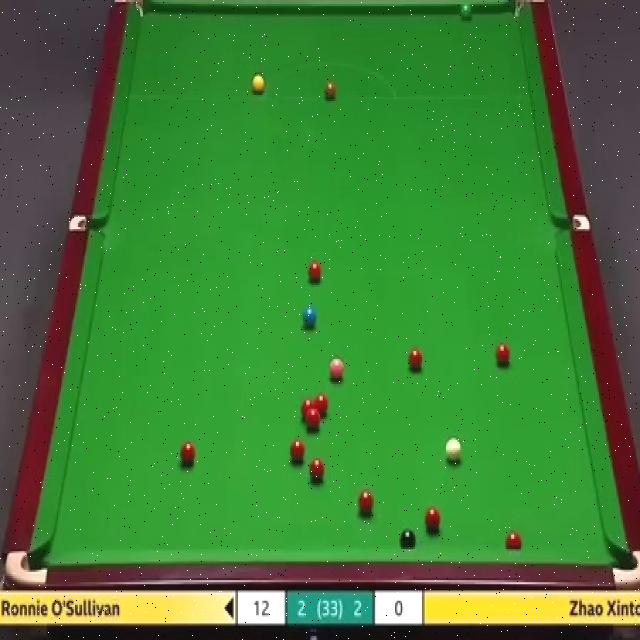black-ball: (400, 527, 416, 550)
blue-ball: (301, 306, 319, 328)
brown-ball: (324, 78, 336, 99)
green-ball: (459, 0, 473, 19)
pink-ball: (328, 353, 347, 386)
red-ball: (178, 438, 200, 470), (309, 453, 327, 482), (308, 260, 326, 288), (424, 508, 442, 535), (407, 345, 424, 373), (286, 441, 306, 464), (494, 343, 510, 368), (300, 398, 315, 424), (357, 489, 373, 513), (314, 394, 328, 418), (504, 530, 522, 548), (306, 412, 322, 432)
white-ball: (444, 438, 461, 463)
yellow-ball: (251, 76, 264, 94)
